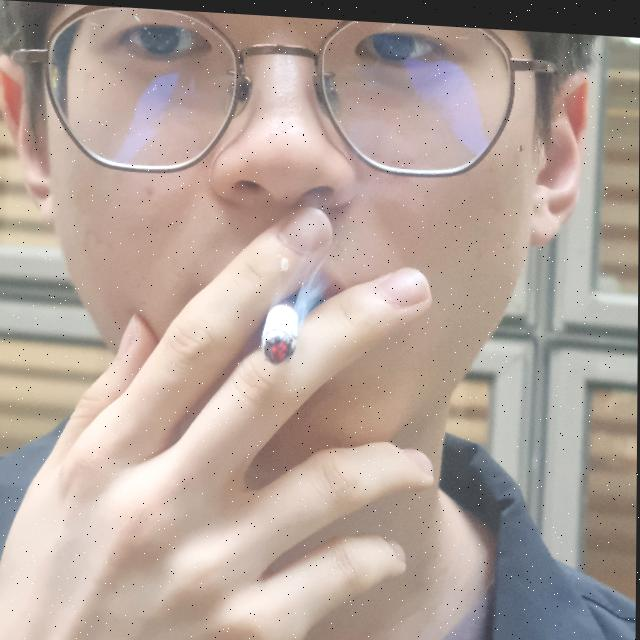cigarette: (263, 289, 299, 361)
